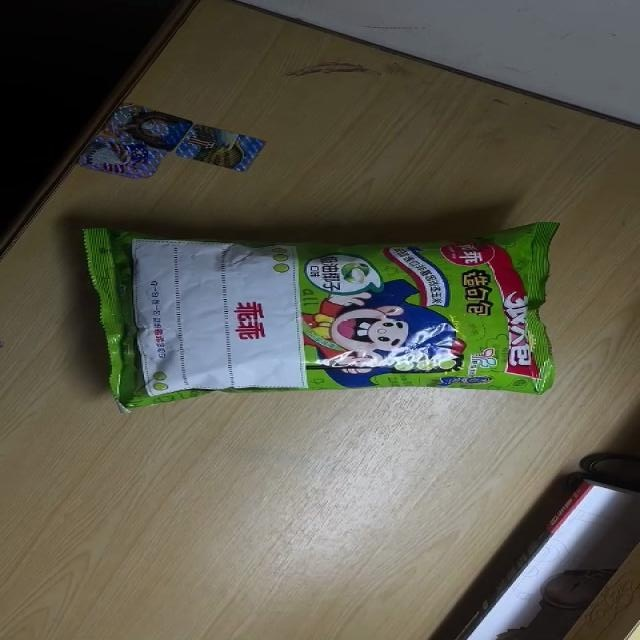Good-Luck: (84, 219, 559, 412)
